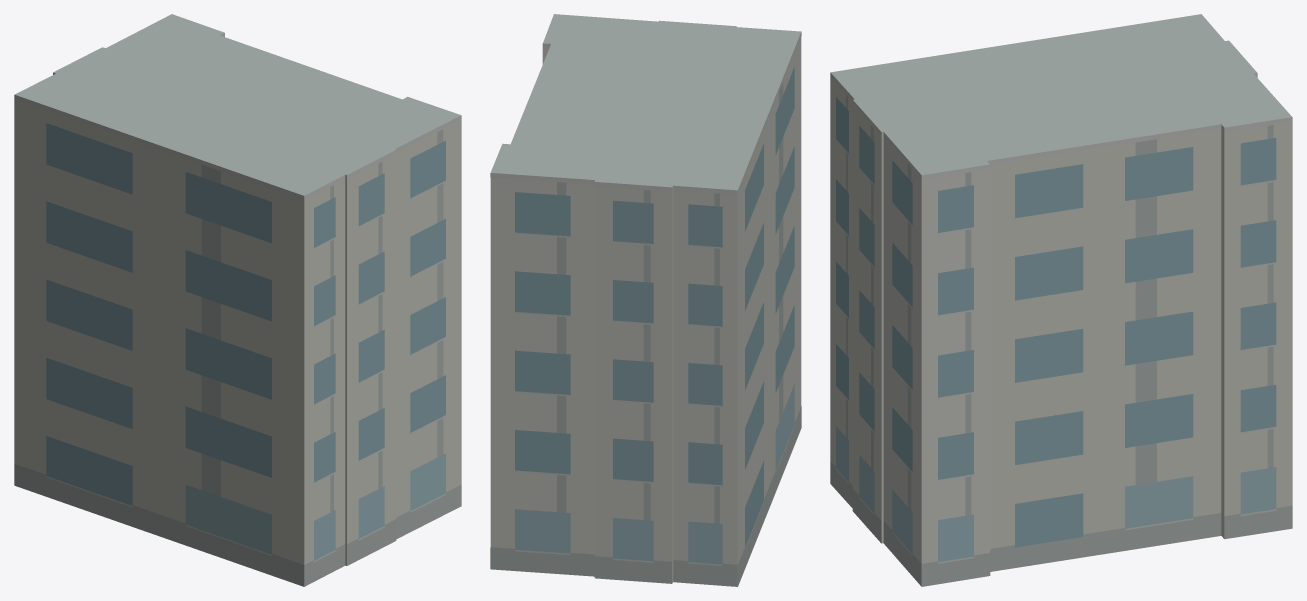
The model's file is survey-upis-32852974.glb.
3 renders of one model, left to right at view 1: azimuth 30°, elevation 25°; view 2: azimuth 150°, elevation 25°; view 3: azimuth 270°, elevation 25°, orthographic. The views are drawn at different scales.
Visible parts, largest first — view 1: survey-upis-32852974.tmp; view 2: survey-upis-32852974.tmp; view 3: survey-upis-32852974.tmp.
Boxes of the visible parts, x1,y1,x2,y2 form: survey-upis-32852974.tmp: [14, 14, 461, 586]; survey-upis-32852974.tmp: [490, 14, 801, 586]; survey-upis-32852974.tmp: [830, 14, 1292, 586].
Size of the model in its own units: 17.34 by 20.61 by 20.98.
